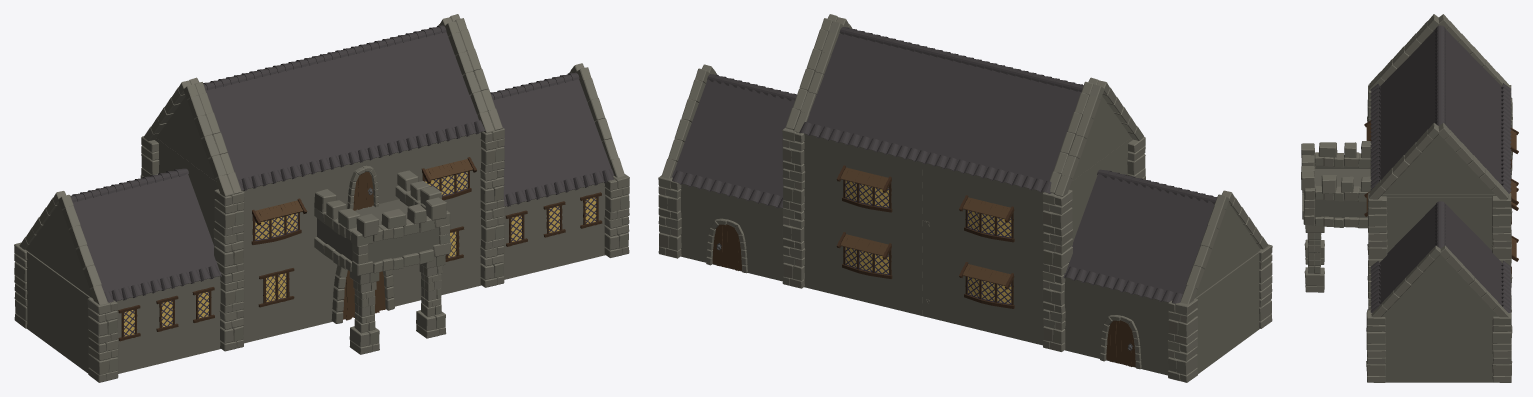
The model's file is brick wall bake test.fbx.
3 views of the same model, side by side, from view 1: azimuth 30°, elevation 25°; view 2: azimuth 150°, elevation 25°; view 3: azimuth 270°, elevation 25° (orthographic). The views are drawn at different scales.
Visible parts, largest first — view 1: Plane, Cube.006, Plane.001, Plane.002, Cube.017, Cube.004, Cube.018, Circle.003, Plane.003, Cube.040, Cube.096, Cube.088 (+34 smaller); view 2: Cube.005, Plane, Plane.001, Plane.002, Cube.015, Cube.007, Cube.018, Circle.003, Cube.040, Cube.094, Cube.090, Cube.098 (+26 smaller); view 3: Plane, Cube.008, Plane.002, Cube.041, Cube.039, Cube.026, Circle.003, Cube.104, Cube.102, Plane.003, Cube.099, Cube.089 (+15 smaller).
Boxes of the visible parts, x1,y1,x2,y2 form: Plane: (206, 32, 478, 179); Cube.006: (242, 132, 481, 343); Plane.001: (73, 173, 217, 293); Plane.002: (493, 79, 611, 195); Cube.017: (117, 276, 220, 373); Cube.004: (503, 182, 605, 279); Cube.018: (26, 251, 90, 373); Circle.003: (237, 120, 485, 190); Plane.003: (317, 199, 439, 262); Cube.040: (26, 203, 92, 298); Cube.096: (87, 297, 118, 382); Cube.088: (213, 189, 244, 274); Cube.005: (804, 133, 1043, 345); Plane: (807, 33, 1081, 181); Plane.001: (1067, 174, 1214, 295); Plane.002: (674, 79, 794, 196); Cube.015: (1064, 277, 1168, 375); Cube.007: (680, 184, 783, 281); Cube.018: (1195, 252, 1259, 373); Circle.003: (799, 122, 1051, 193); Cube.040: (1194, 202, 1260, 298); Cube.094: (1042, 189, 1072, 275); Cube.090: (1167, 298, 1198, 382); Cube.098: (1054, 80, 1143, 196); Plane: (1380, 29, 1501, 183); Cube.008: (1384, 317, 1493, 382); Plane.002: (1379, 204, 1502, 304); Cube.041: (1382, 254, 1498, 316); Cube.039: (1383, 134, 1494, 193); Cube.026: (1387, 197, 1492, 252); Circle.003: (1370, 83, 1511, 193); Cube.104: (1369, 125, 1508, 199); Cube.102: (1371, 245, 1509, 317); Plane.003: (1314, 159, 1370, 220); Cube.099: (1369, 17, 1508, 90); Cube.089: (1366, 310, 1385, 382).
Bounding box in the file's own units: 6651 × 2870 × 2775.
